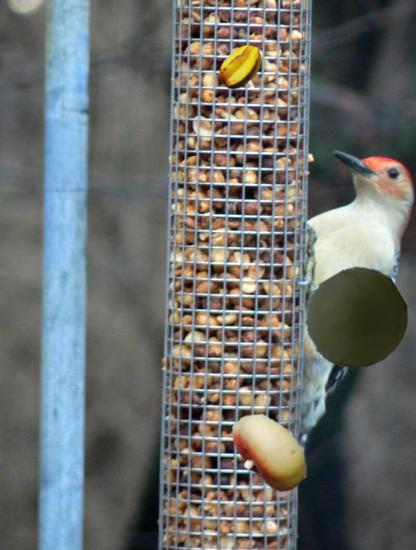Carambula: (216, 42, 267, 93)
Grape: (304, 268, 408, 372)
Peach: (225, 407, 315, 497)
